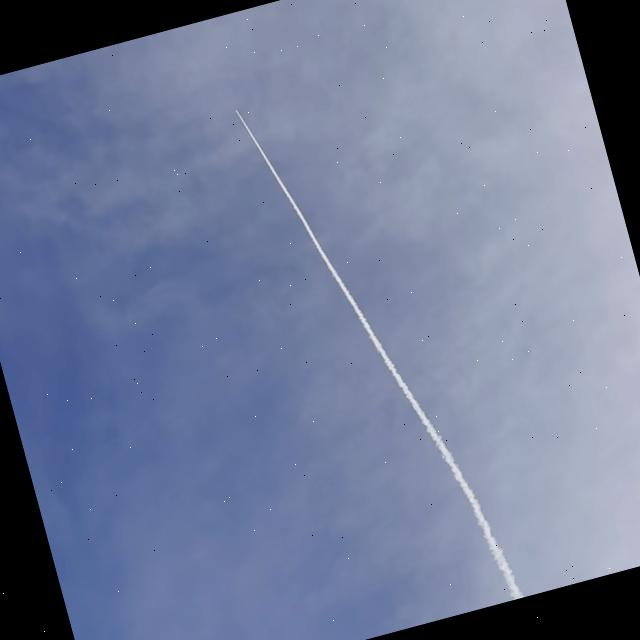smoke_trail_no_rocket: (236, 110, 523, 600)
